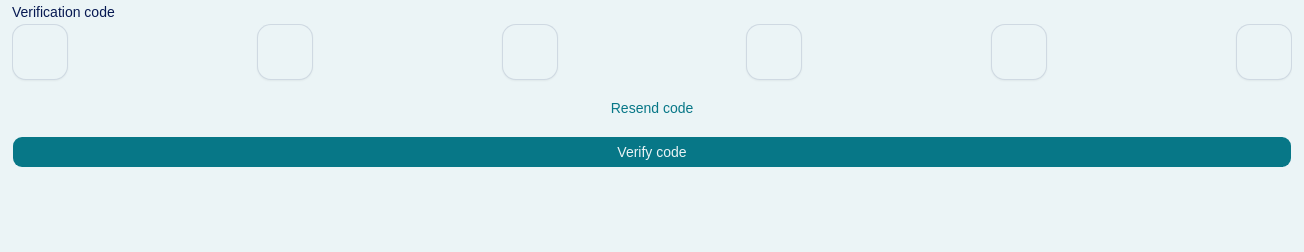
it: VerifyResetOtpForm › shows api otp error when returned
Type "123456" into the field named "Verification code digit 1".
click(40, 52); type("123456")  # box [12,24,68,80]
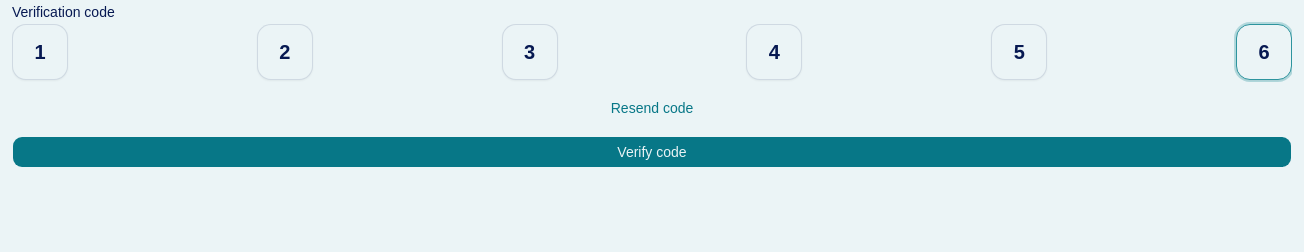
Click the button "Verify code".
click(652, 152)  # box [12,136,1292,168]
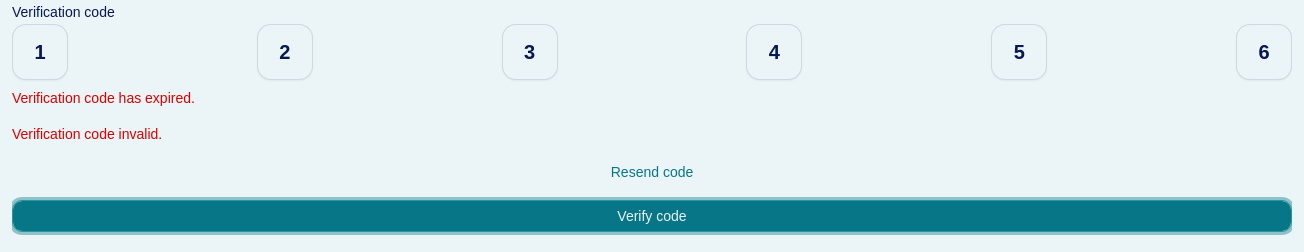
Expected: the text "Verification code has expired." is shown, [12,90,195,106]
Expected: the text "Verification code invalid." is shown, [12,126,162,142]
